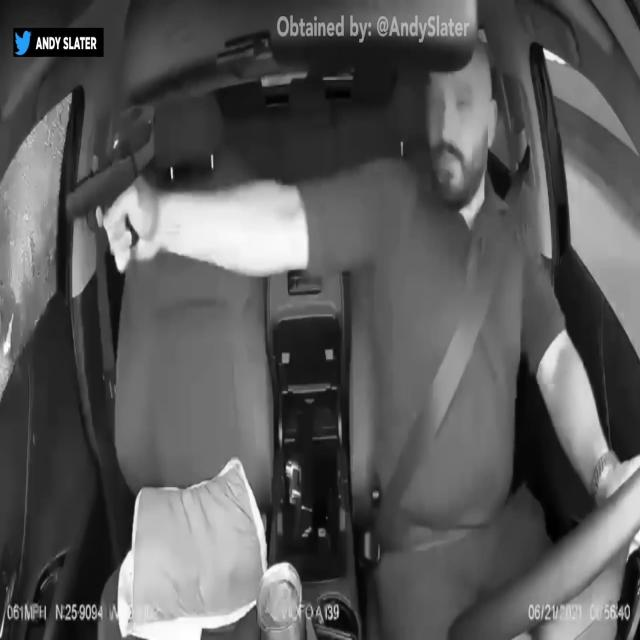senjata_api: (65, 148, 138, 247)
